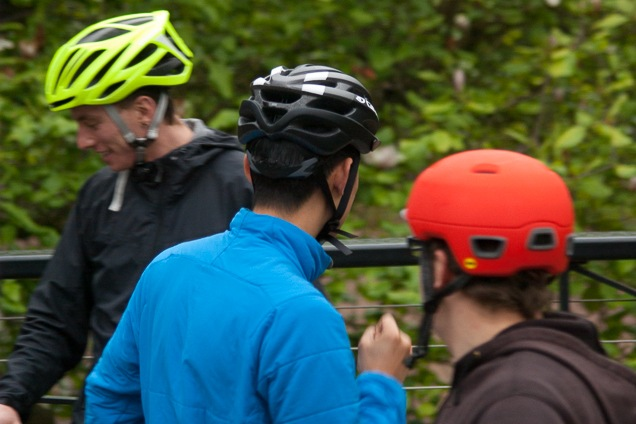helmet: (408, 146, 578, 271), (35, 10, 191, 95), (238, 62, 381, 148)
